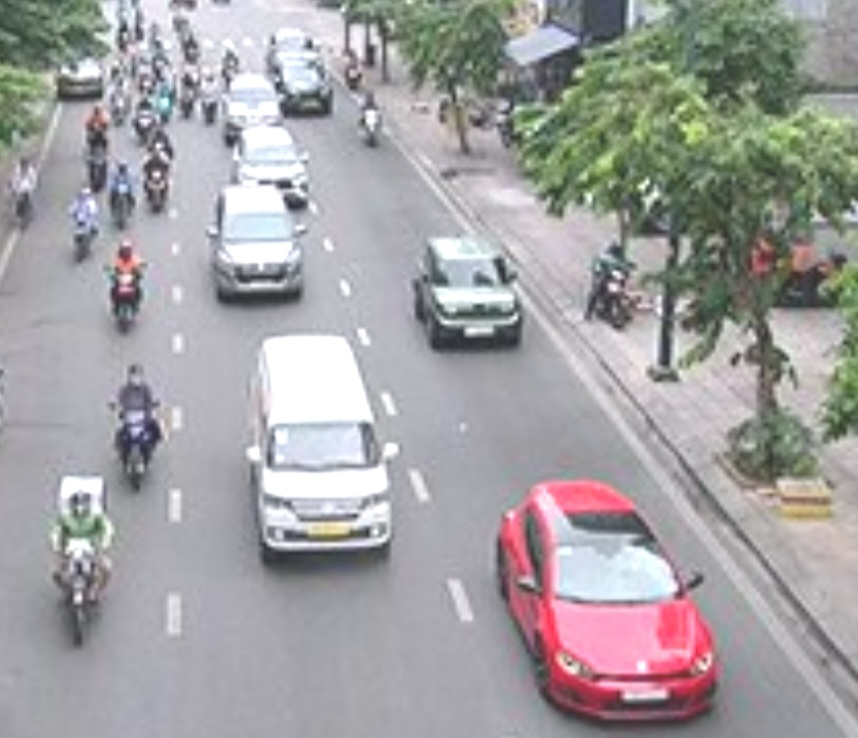car: (494, 475, 723, 720), (247, 334, 392, 553), (412, 237, 523, 351), (210, 192, 304, 295), (235, 129, 307, 190), (226, 75, 281, 126)
